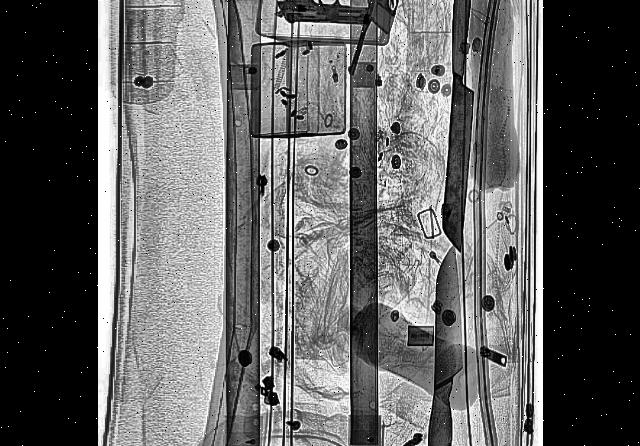Gun: (345, 0, 426, 100), (273, 0, 370, 29)
Knife: (439, 0, 478, 249), (424, 242, 467, 446)
